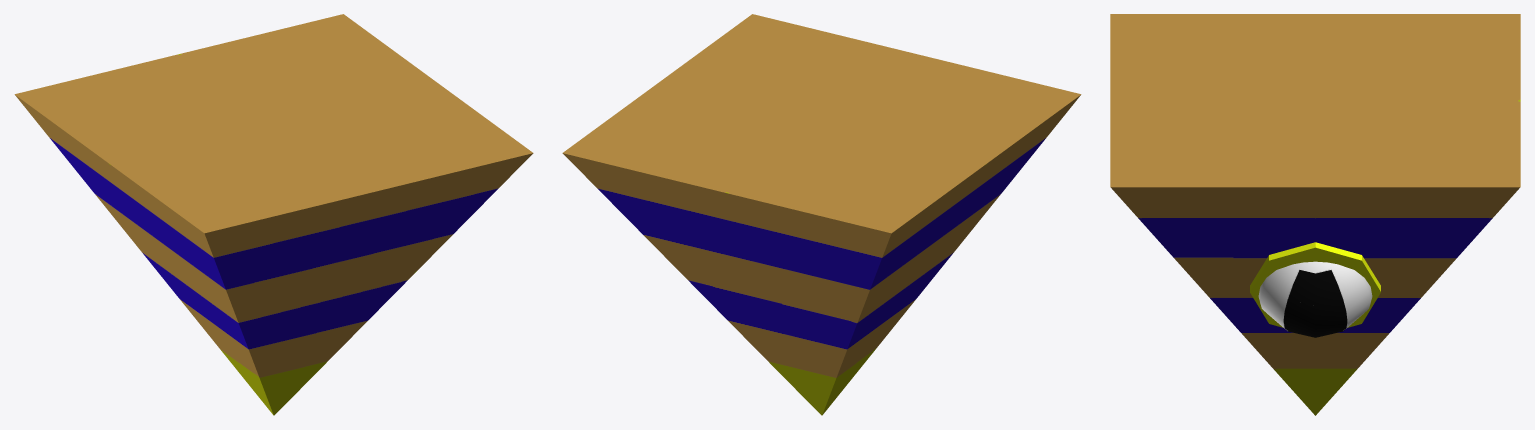
The model's file is UFO.fbx.
3 views of the same model, side by side, from view 1: azimuth 30°, elevation 25°; view 2: azimuth 150°, elevation 25°; view 3: azimuth 270°, elevation 25° (orthographic). The views are drawn at different scales.
Parts seen in each view (by area): view 1: Cone; view 2: Cone; view 3: Cone.
Part boxes in pixels (left/top/right/bottom): Cone: left=14, top=14, right=533, bottom=415; Cone: left=562, top=14, right=1081, bottom=415; Cone: left=1110, top=14, right=1520, bottom=415.
Size of the model in its own units: 141 by 120 by 141.
3 materials, 3 textured.
